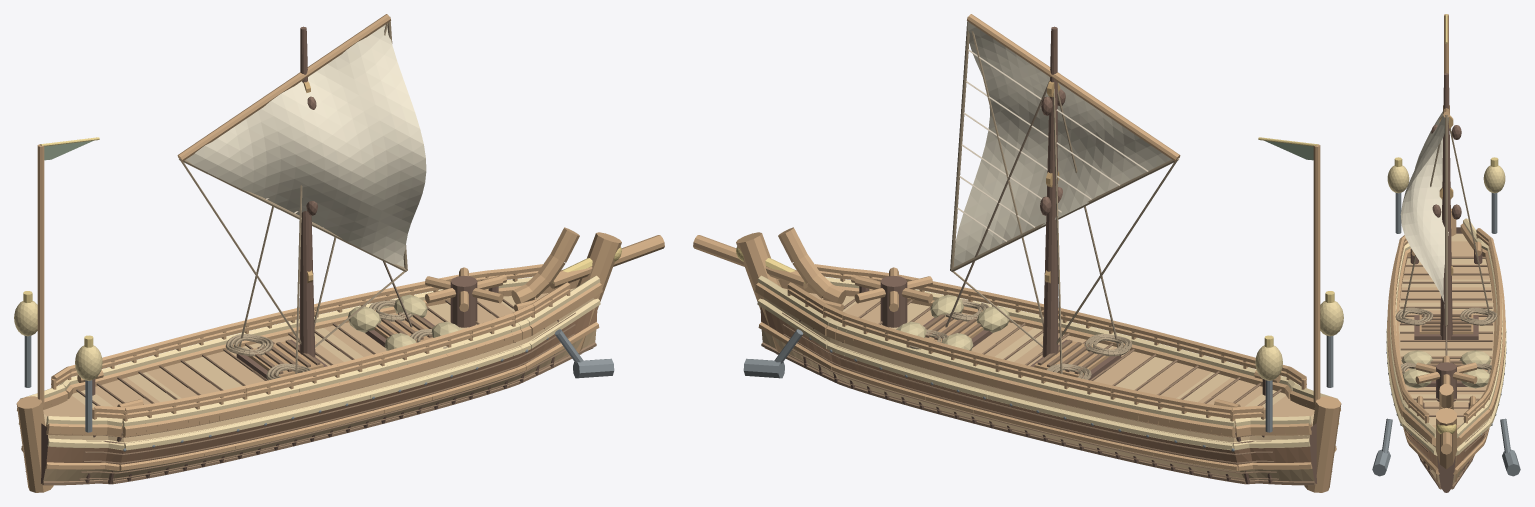
File: zaruk-v5.glb
The picture shows the model from 3 angles, left to right: view 1: azimuth 30°, elevation 25°; view 2: azimuth 150°, elevation 25°; view 3: azimuth 270°, elevation 25°; orthographic projection. The views are drawn at different scales.
Visible parts, largest first — view 1: zaruk_sails_sail, zaruk_hull_wood, zaruk_hull_pale, zaruk_railings_wood, zaruk_hull_seam, zaruk_hull_hull2, zaruk_hull_pine, zaruk_hull_deck, zaruk_fittings_wood, zaruk_hull_decklight, zaruk_masts_darkwood, zaruk_rigging_wood (+11 smaller); view 2: zaruk_sails_sail, zaruk_hull_wood, zaruk_hull_pale, zaruk_railings_wood, zaruk_hull_seam, zaruk_hull_hull2, zaruk_hull_pine, zaruk_hull_deck, zaruk_masts_darkwood, zaruk_rigging_rope, zaruk_fittings_wood, zaruk_hull_decklight (+13 smaller); view 3: zaruk_sails_sail, zaruk_hull_wood, zaruk_hull_deck, zaruk_railings_wood, zaruk_hull_seam, zaruk_hull_pale, zaruk_hull_decklight, zaruk_masts_darkwood, zaruk_fittings_iron, zaruk_fittings_wood, zaruk_ornament_reed, zaruk_fittings_darkwood (+12 smaller).
Part boxes in pixels (x1,y1,x2,y2): zaruk_sails_sail: [186, 24, 426, 267]; zaruk_hull_wood: [16, 232, 664, 492]; zaruk_hull_pale: [18, 275, 600, 450]; zaruk_railings_wood: [51, 264, 570, 430]; zaruk_hull_seam: [25, 298, 596, 485]; zaruk_hull_hull2: [41, 307, 597, 483]; zaruk_hull_pine: [43, 298, 596, 481]; zaruk_hull_deck: [43, 293, 548, 433]; zaruk_fittings_wood: [77, 267, 538, 407]; zaruk_hull_decklight: [44, 288, 574, 436]; zaruk_masts_darkwood: [299, 26, 317, 357]; zaruk_rigging_wood: [177, 14, 390, 161]; zaruk_sails_sail: [953, 21, 1171, 266]; zaruk_hull_wood: [693, 232, 1341, 492]; zaruk_hull_pale: [757, 275, 1339, 450]; zaruk_railings_wood: [787, 264, 1306, 430]; zaruk_hull_seam: [761, 298, 1332, 485]; zaruk_hull_hull2: [760, 307, 1316, 483]; zaruk_hull_pine: [761, 298, 1314, 481]; zaruk_hull_deck: [809, 293, 1314, 433]; zaruk_masts_darkwood: [1040, 26, 1065, 357]; zaruk_rigging_rope: [950, 17, 1178, 347]; zaruk_fittings_wood: [819, 267, 1280, 407]; zaruk_hull_decklight: [783, 288, 1313, 436]; zaruk_sails_sail: [1400, 111, 1448, 308]; zaruk_hull_wood: [1387, 208, 1505, 481]; zaruk_hull_deck: [1398, 241, 1494, 428]; zaruk_railings_wood: [1390, 228, 1502, 423]; zaruk_hull_seam: [1400, 256, 1492, 489]; zaruk_hull_pale: [1386, 218, 1506, 455]; zaruk_hull_decklight: [1398, 233, 1494, 424]; zaruk_masts_darkwood: [1431, 73, 1461, 339]; zaruk_fittings_iron: [1372, 193, 1520, 476]; zaruk_fittings_wood: [1411, 241, 1481, 407]; zaruk_ornament_reed: [1401, 350, 1491, 388]; zaruk_fittings_darkwood: [1410, 249, 1482, 408].
Bounding box in the file's own units: 32.2 × 19.1 × 8.15.
